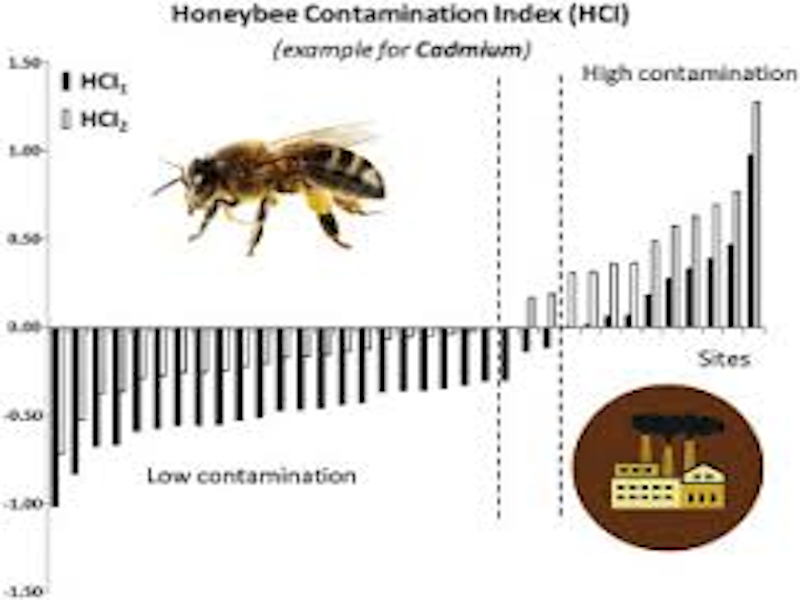abeja: (159, 118, 411, 261)
